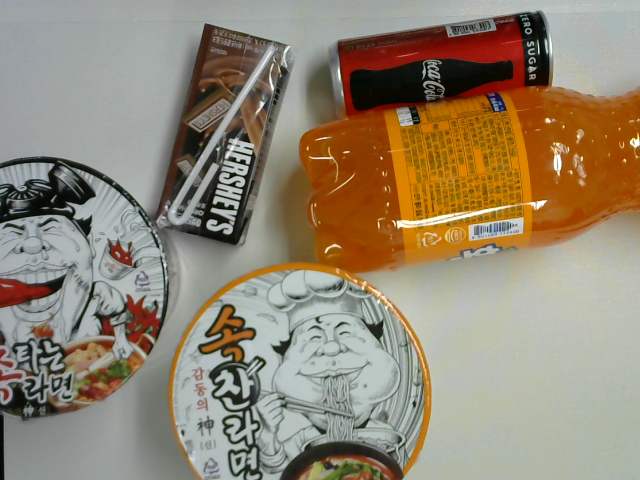Coca_Cola_Zero_Can_250ml: (327, 10, 557, 121)
HeJangsock: (1, 155, 180, 417)
Hejangchan: (163, 262, 435, 480)
Hush_Choco_Drink: (151, 19, 298, 249)
Hwanta_Orange_1.5L: (295, 85, 640, 276)
